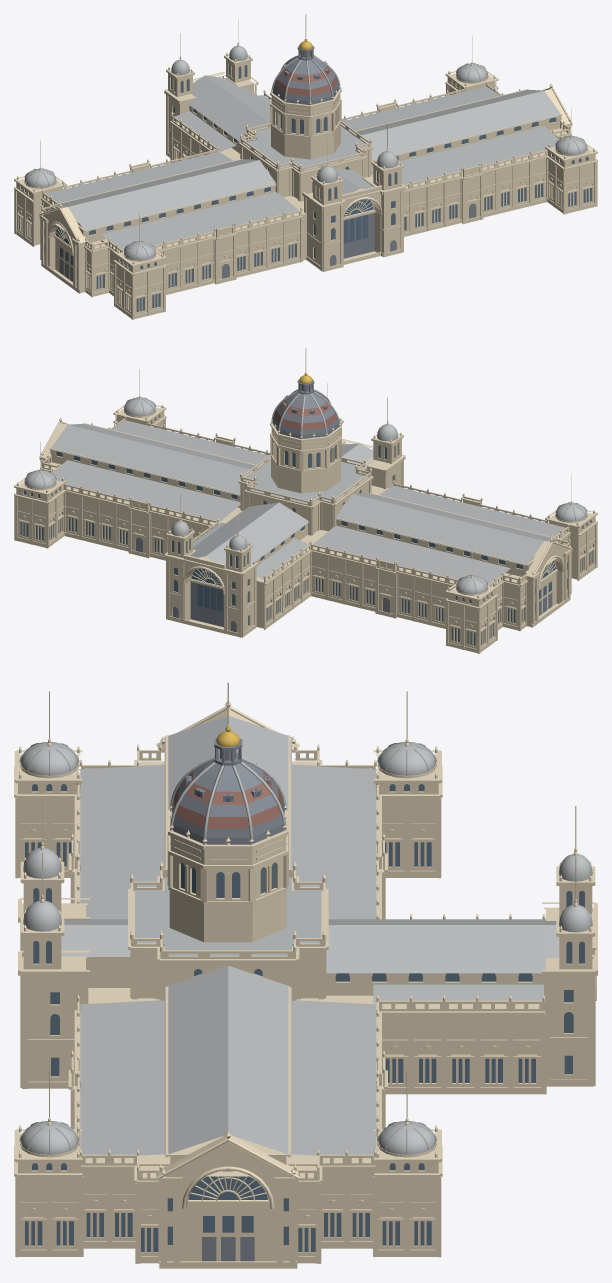
The model's file is melbourne-royal-exhibition-building.detail.glb.
3 views of the same model, one above another, from view 1: azimuth 30°, elevation 25°; view 2: azimuth 150°, elevation 25°; view 3: azimuth 270°, elevation 25° (orthographic). The views are drawn at different scales.
Parts seen in each view (by area): view 1: Royal Exhibition Building; view 2: Royal Exhibition Building; view 3: Royal Exhibition Building.
Boxes of the visible parts, bbox=[...] form: Royal Exhibition Building: bbox=[14, 14, 597, 319]; Royal Exhibition Building: bbox=[14, 348, 597, 653]; Royal Exhibition Building: bbox=[14, 682, 597, 1268].
Size of the model in its own units: 171 by 68 by 97.15.
